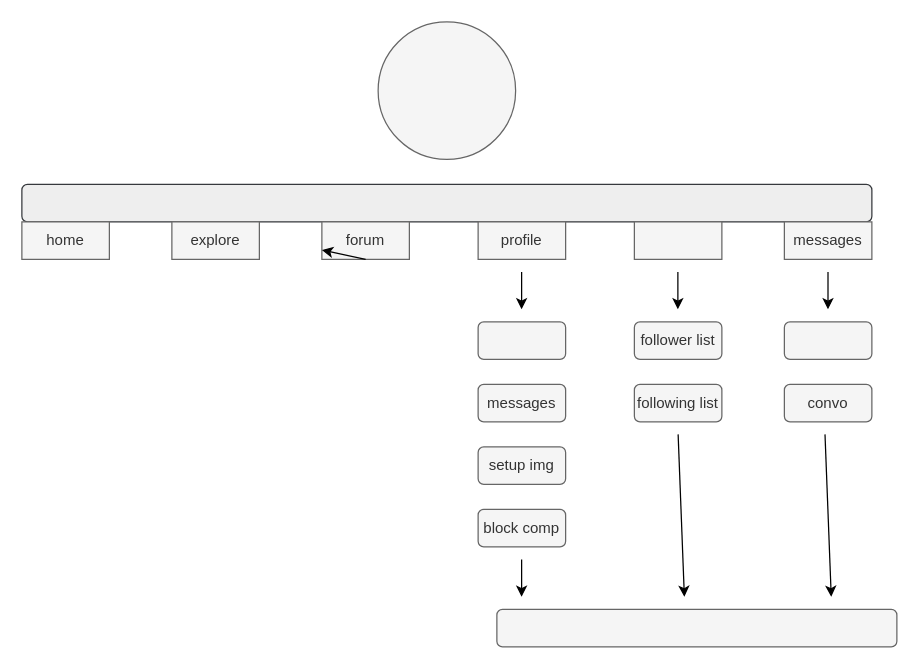
Some shapes in this 919 by 669 pixel diagram are drawn without their labels. The shapes that lost their labels are listed below. From the top down, each one's box as (x1, y1, x2, y2) in pixels, then its label:
(377, 21, 516, 159): homepage
(21, 183, 872, 222): NAV BAR
(633, 221, 722, 259): follows
(477, 321, 566, 359): forum post
(783, 321, 872, 359): convo list
(496, 608, 897, 647): other user profile
